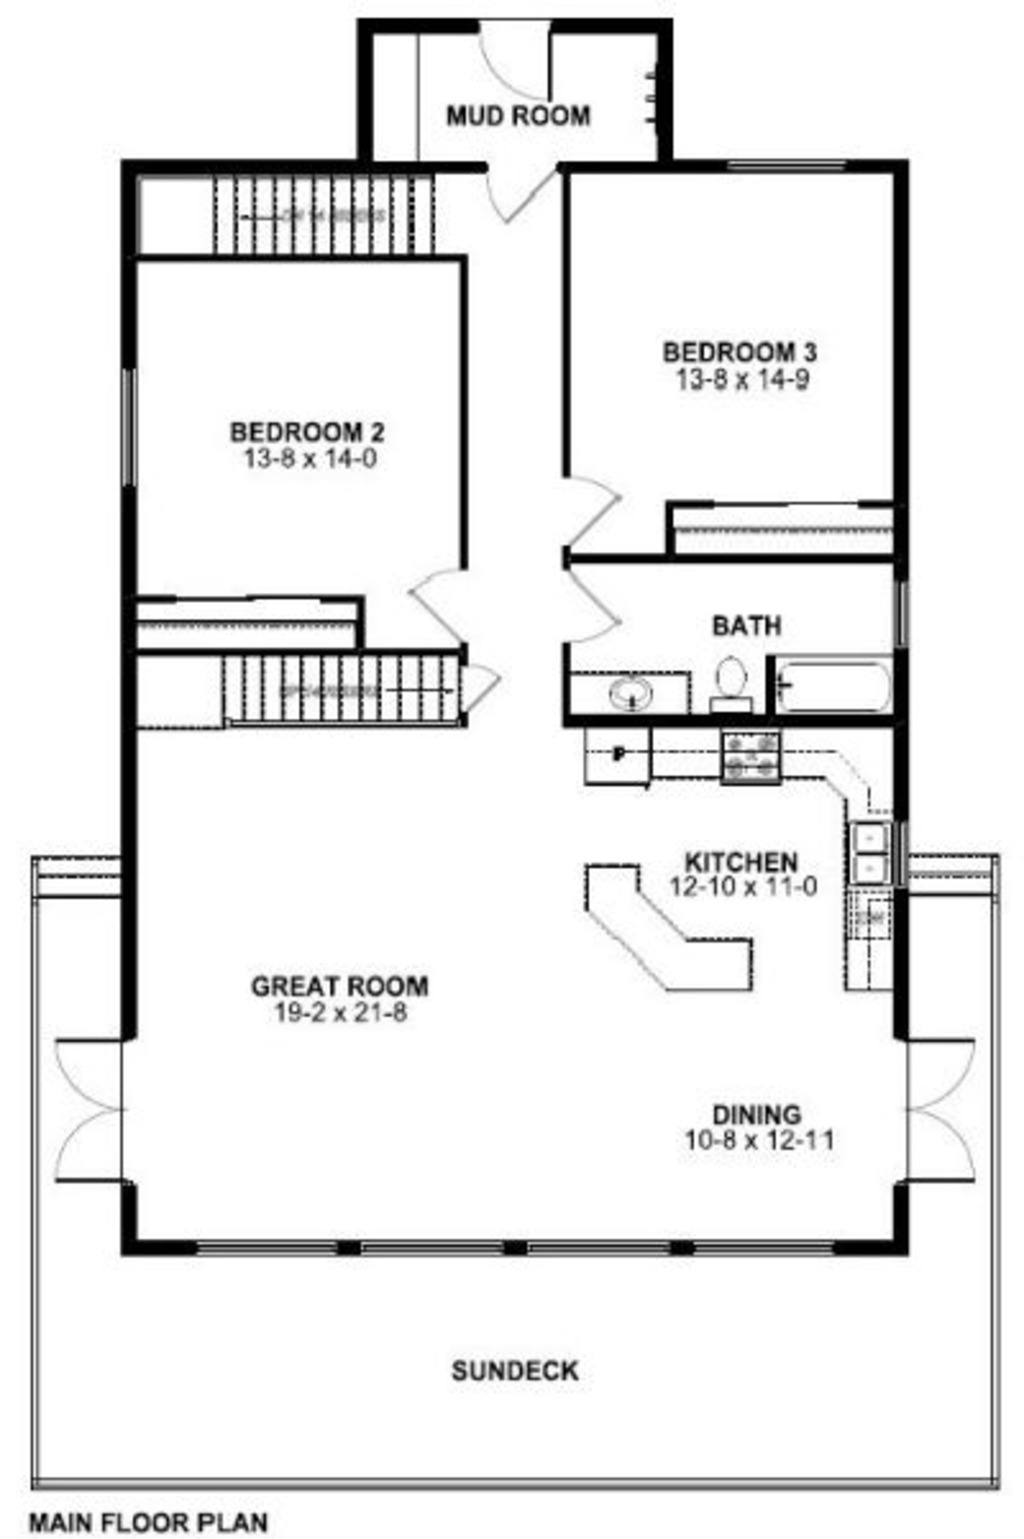door: (890, 1020, 987, 1183), (53, 1036, 136, 1183), (462, 5, 574, 111), (483, 155, 569, 229), (394, 558, 471, 639), (555, 558, 625, 646), (562, 478, 619, 555), (464, 659, 507, 727)
large_sink: (543, 662, 693, 720), (701, 643, 769, 718)
stairs: (141, 646, 462, 750), (134, 173, 455, 276)
tub: (762, 652, 897, 726)
twin_sink: (841, 794, 904, 897)
window: (693, 1220, 834, 1263), (529, 1227, 683, 1259), (363, 1232, 525, 1259), (192, 1229, 336, 1259), (115, 369, 143, 494), (725, 152, 850, 178)
